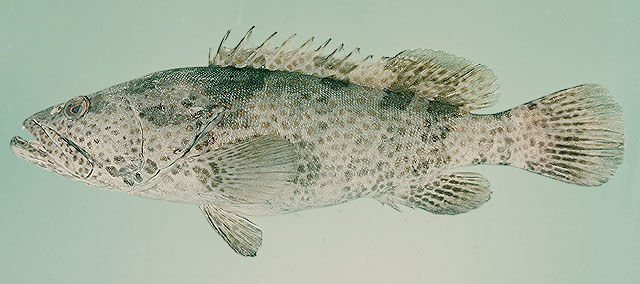fish: (9, 25, 626, 258)
